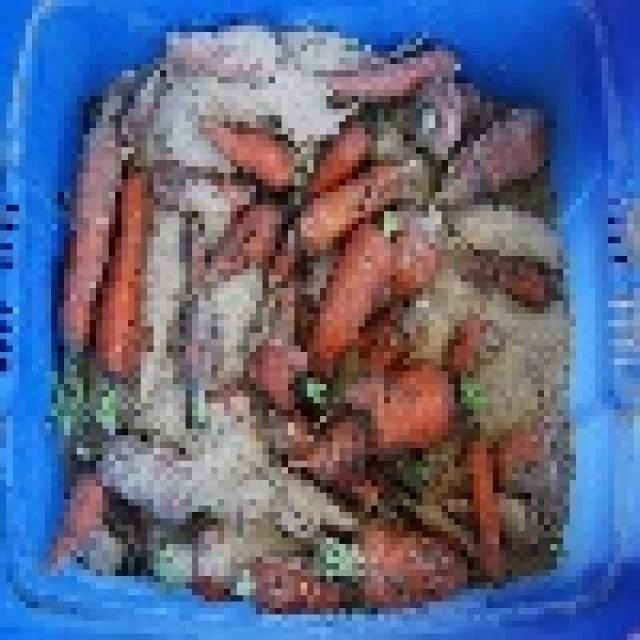Stale_Carrot: (305, 211, 398, 367), (89, 179, 151, 380), (375, 374, 454, 452)
